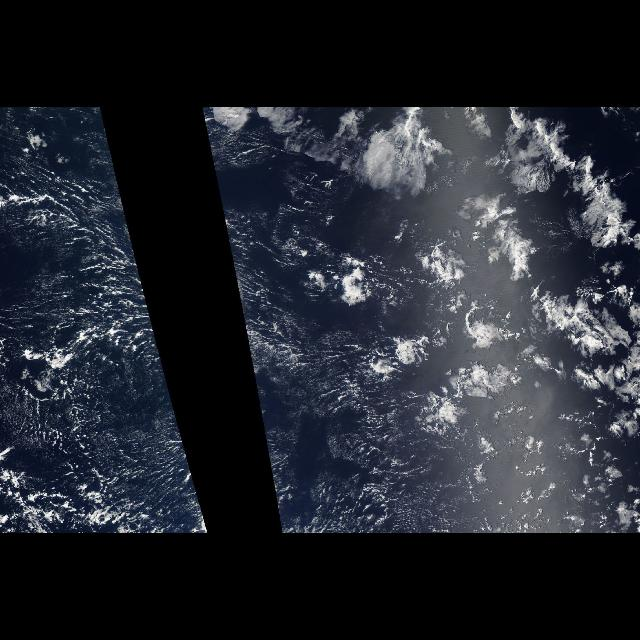Flower: (328, 110, 640, 422)
Gravel: (21, 233, 147, 514)
Sugar: (264, 342, 480, 532), (5, 157, 158, 340), (82, 343, 208, 533)
